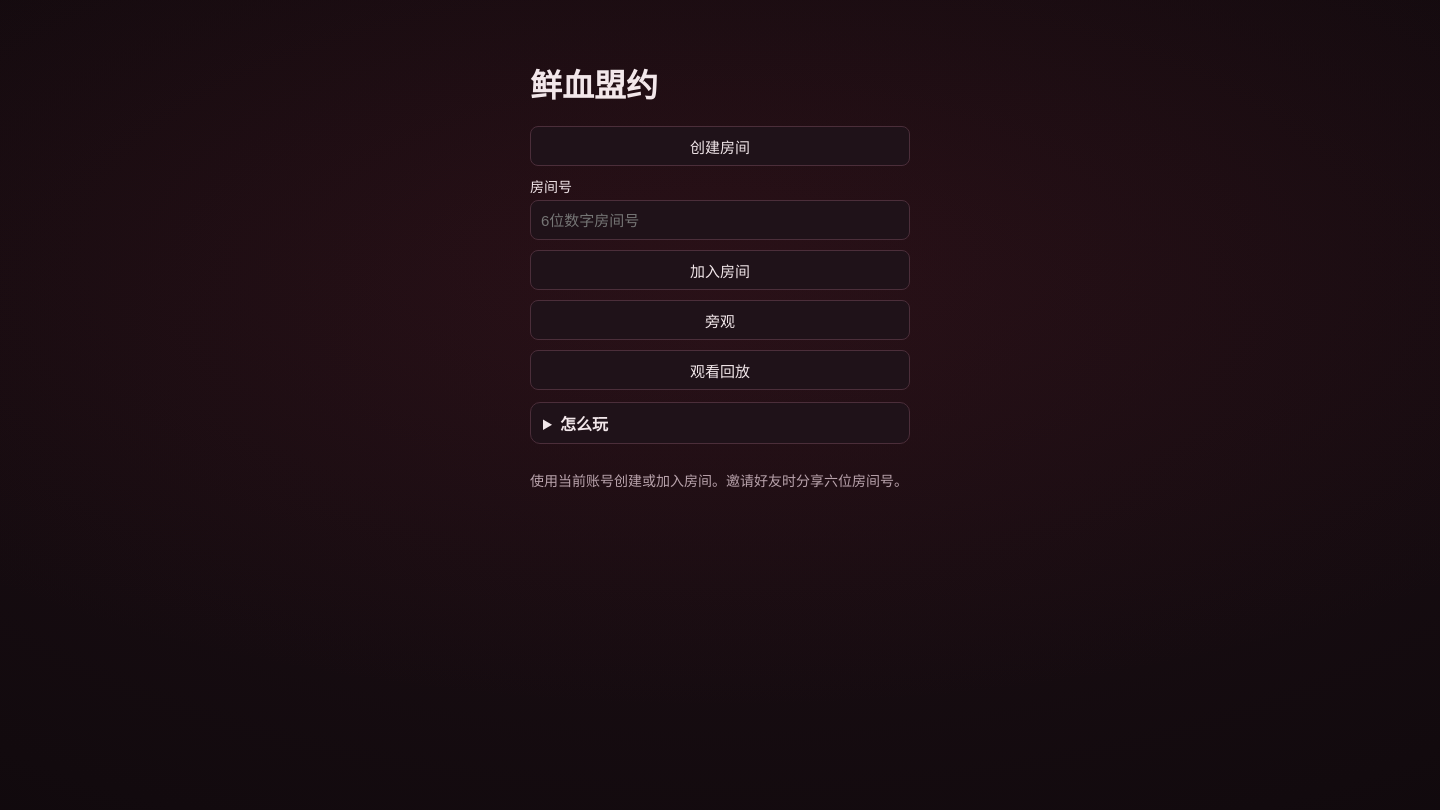
it: 创建房间收到纯英文服务端错误消息时原文展示
This screenshot has width=1440, height=810.
Click the button "创建房间" at (720, 146), box [530, 126, 910, 166]
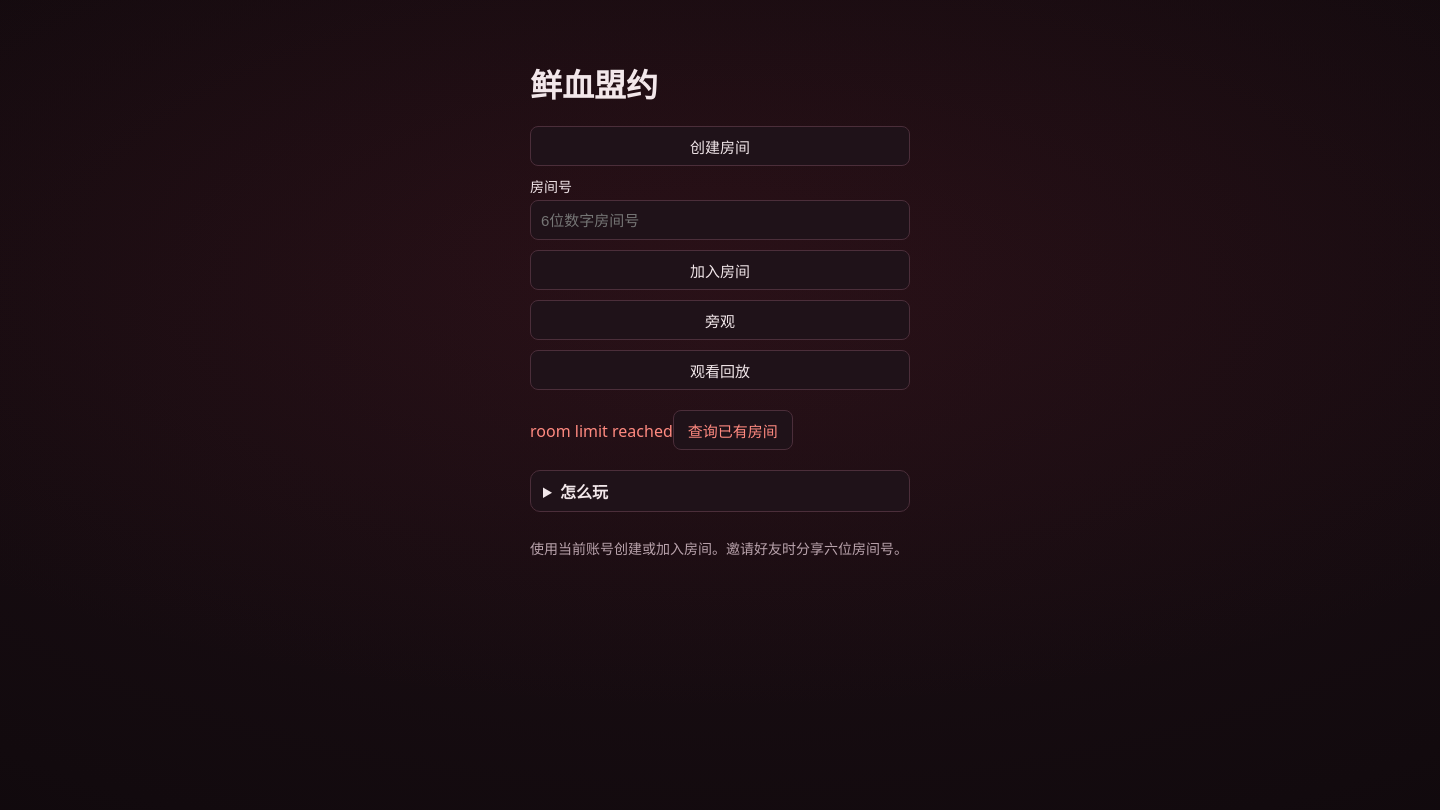
Check: the message shows "room limit reached", box [530, 420, 673, 442]
